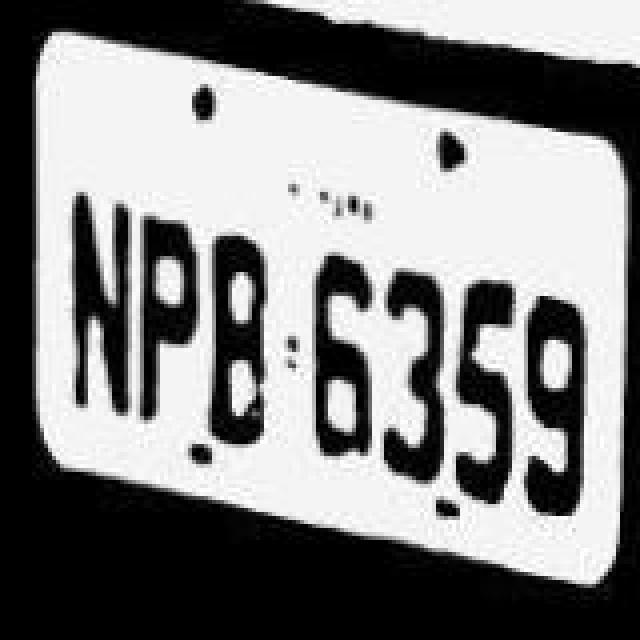3: (376, 244, 444, 492)
5: (446, 262, 518, 510)
6: (304, 234, 372, 486)
9: (518, 258, 590, 522)
B: (204, 216, 280, 452)
N: (60, 142, 136, 430)
P: (132, 166, 200, 438)
